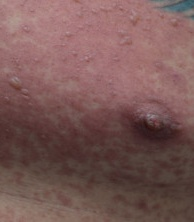SJS-TEN: (0, 0, 190, 170)
